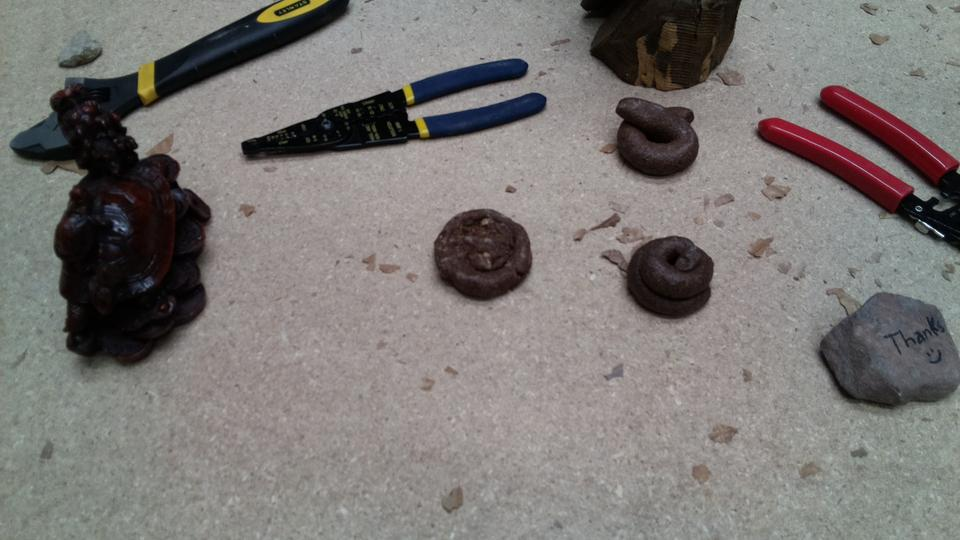poop: (428, 206, 534, 305), (610, 95, 705, 181), (625, 235, 717, 321)
